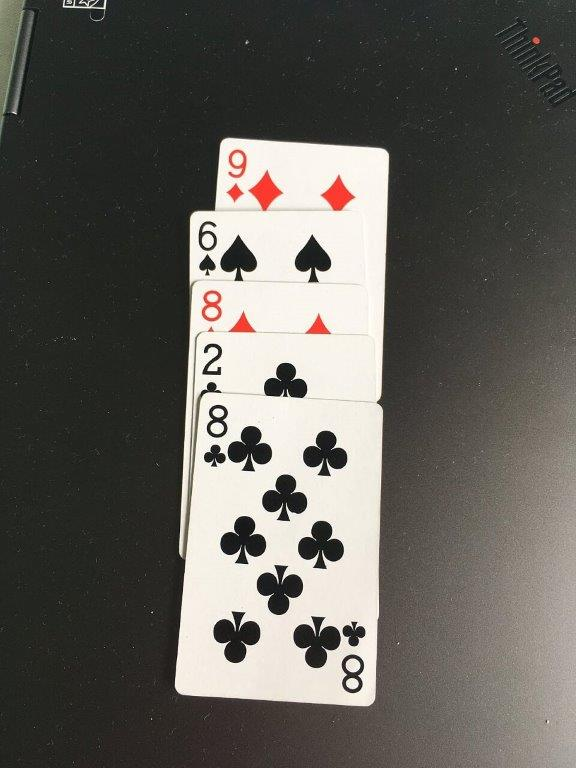2C: (196, 341, 227, 395)
6S: (193, 215, 220, 278)
8C: (200, 401, 230, 470)
9D: (223, 146, 249, 205)
